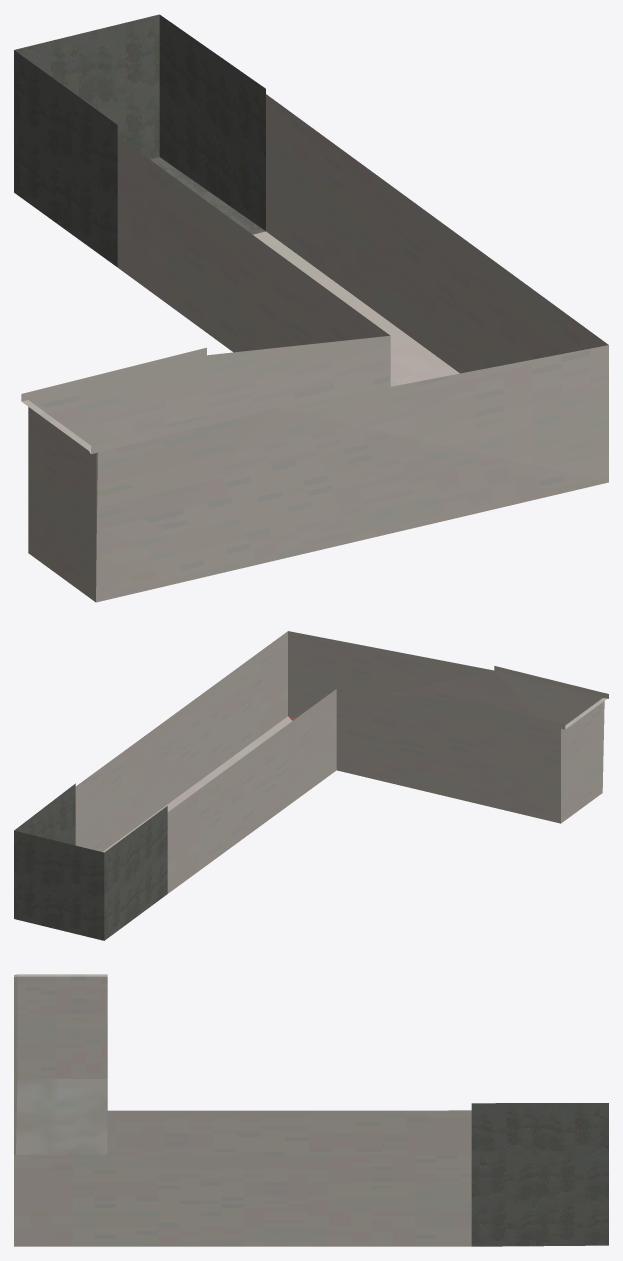
The model's file is lodnstps_las01.obj.
3 renders of one model, top to bottom at view 1: azimuth 30°, elevation 25°; view 2: azimuth 150°, elevation 25°; view 3: azimuth 270°, elevation 25°, orthographic. The views are drawn at different scales.
Visible parts, largest first — view 1: LODnstps_LAS01; view 2: LODnstps_LAS01; view 3: LODnstps_LAS01.
Boxes of the visible parts, box(x1,y1,x2,y2) form: LODnstps_LAS01: box(14, 14, 608, 602); LODnstps_LAS01: box(14, 631, 608, 940); LODnstps_LAS01: box(14, 974, 608, 1246).
Size of the model in its own units: 29.08 by 8.84 by 43.36.
3 materials, 3 textured.
